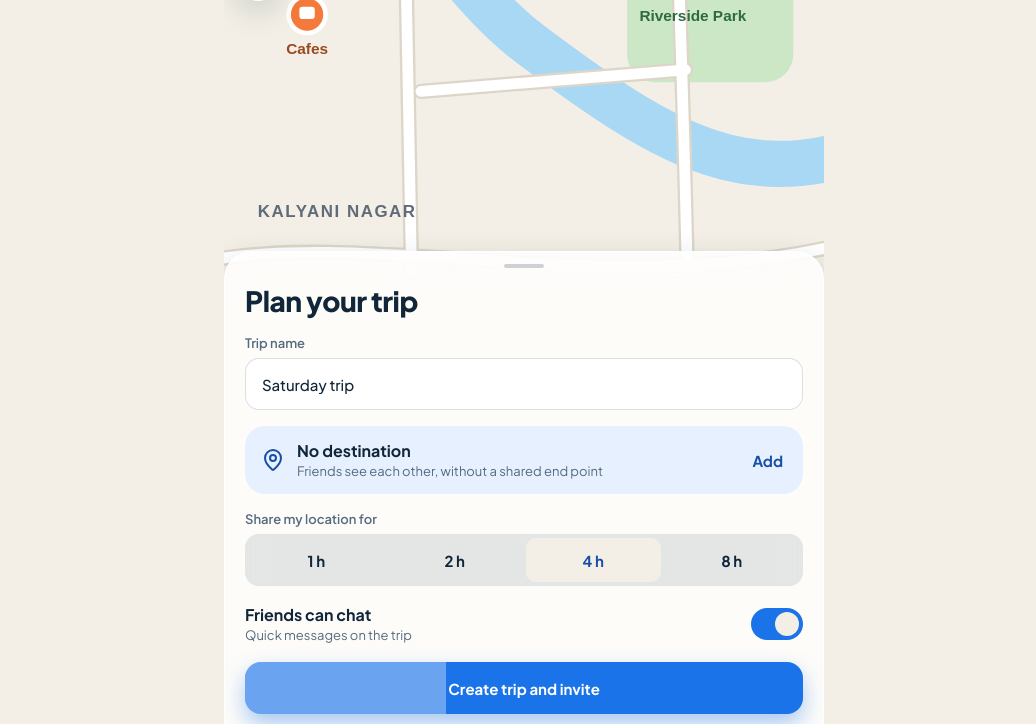
Test: New trip screen › says when too many trips are running
The width and height of the screenshot is (1036, 724).
(page scrolled)
What coordinates should you click on to do the following:
click the button "Create trip and invite"
I would click on:
 (524, 688)
Its box is [245,662,803,714].
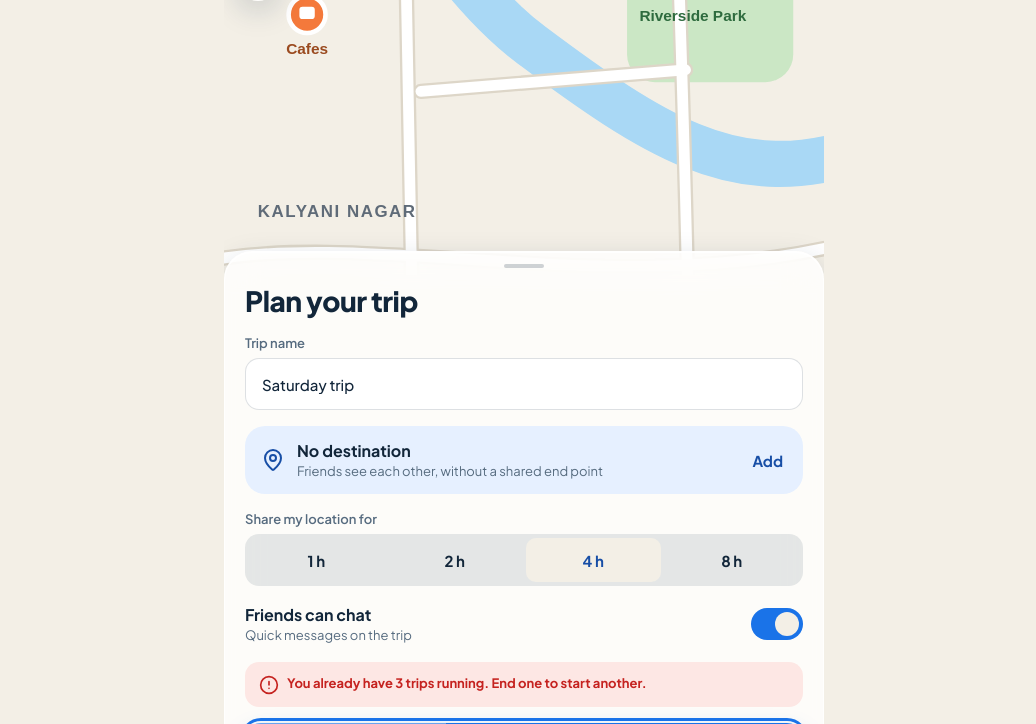
Check: the message shows "You already have 3 trips running.", box [287,675,647,691]
